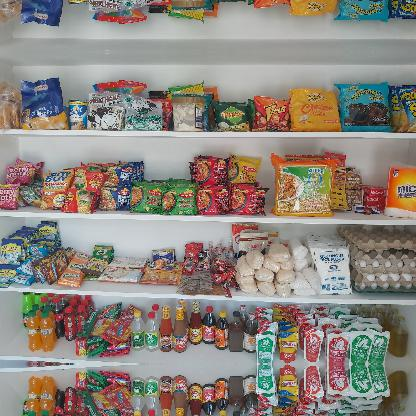Lady-s-Choice: (171, 96, 205, 132), (171, 0, 206, 8)
